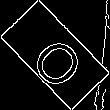O_NE: (21, 22, 89, 88)
